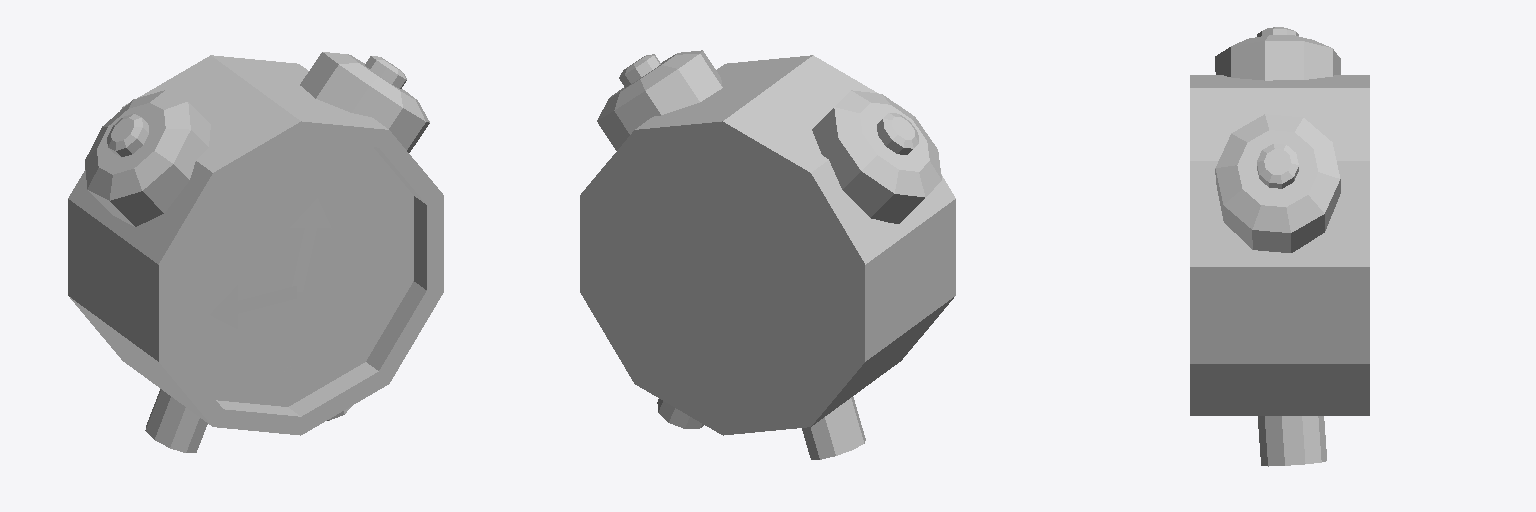
Rendered from Clock.obj.
The picture shows the model from 3 angles: view 1: azimuth 30°, elevation 25°; view 2: azimuth 150°, elevation 25°; view 3: azimuth 270°, elevation 25°; orthographic projection.
Visible parts, largest first — view 1: Clock; view 2: Clock; view 3: Clock.
Part boxes in pixels (left/top/right/bottom): Clock: left=68, top=52, right=443, bottom=452; Clock: left=580, top=50, right=955, bottom=459; Clock: left=1190, top=27, right=1369, bottom=466.
Bounding box in the file's own units: 3.14 × 3.28 × 1.51.